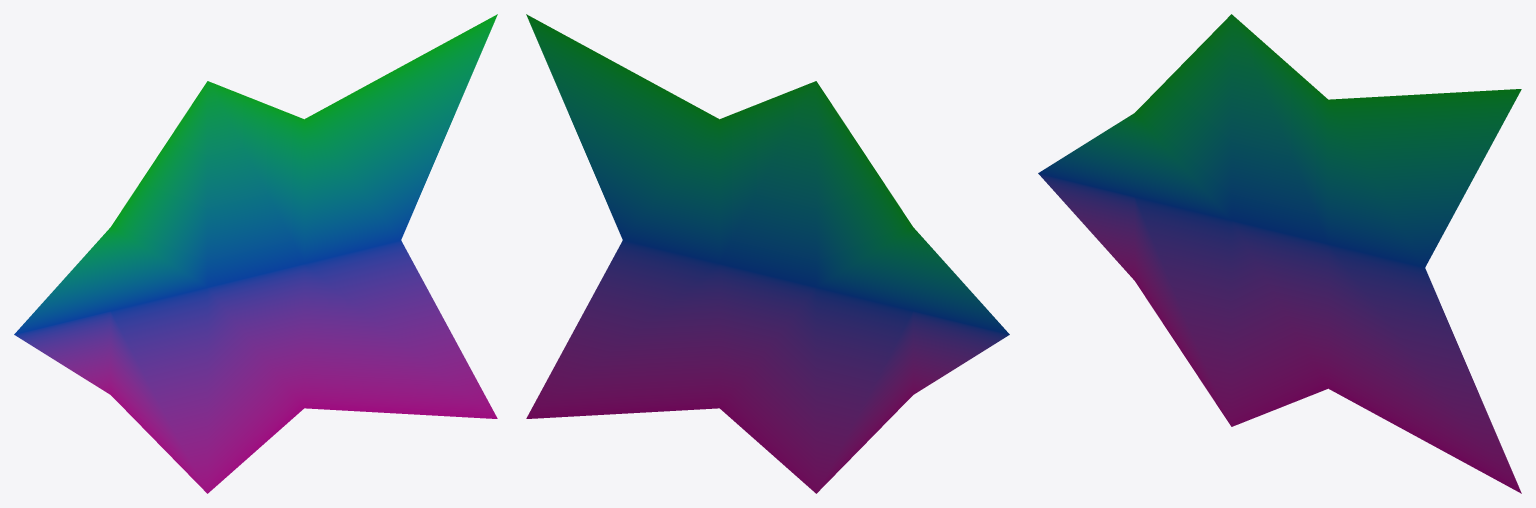
The model's file is ExportedBlenderFBXFile.fbx.
3 renders of one model, left to right at view 1: azimuth 30°, elevation 25°; view 2: azimuth 150°, elevation 25°; view 3: azimuth 330°, elevation 25°, orthographic.
Parts seen in each view (by area): view 1: Icosphere; view 2: Icosphere; view 3: Icosphere.
Boxes of the visible parts, x1,y1,x2,y2 form: Icosphere: [14, 14, 497, 493]; Icosphere: [526, 14, 1009, 493]; Icosphere: [1038, 14, 1521, 493].
Size of the model in its own units: 5 by 4.08 by 6.64e-07.
